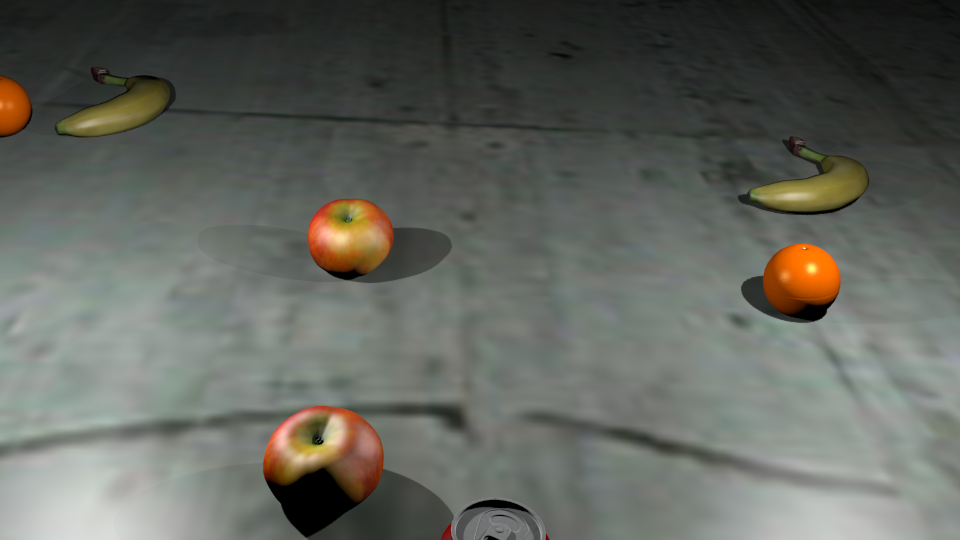apple: (264, 406, 384, 495), (308, 199, 394, 272)
banana: (748, 137, 868, 211), (56, 68, 169, 136)
cola_can: (441, 498, 550, 540)
orange: (763, 244, 841, 310), (1, 77, 31, 135)
